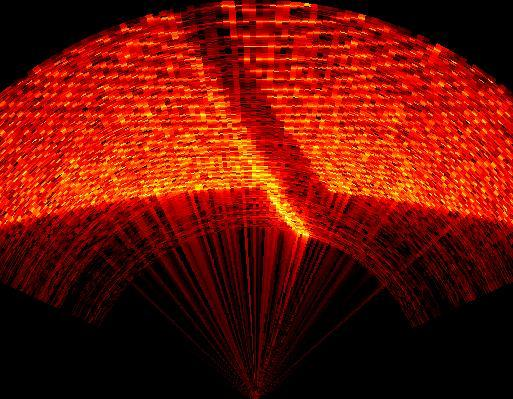pipe: (178, 2, 343, 235)
